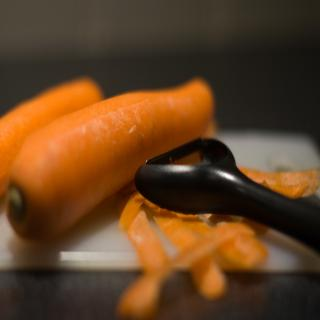Carrot: (6, 86, 216, 239)
